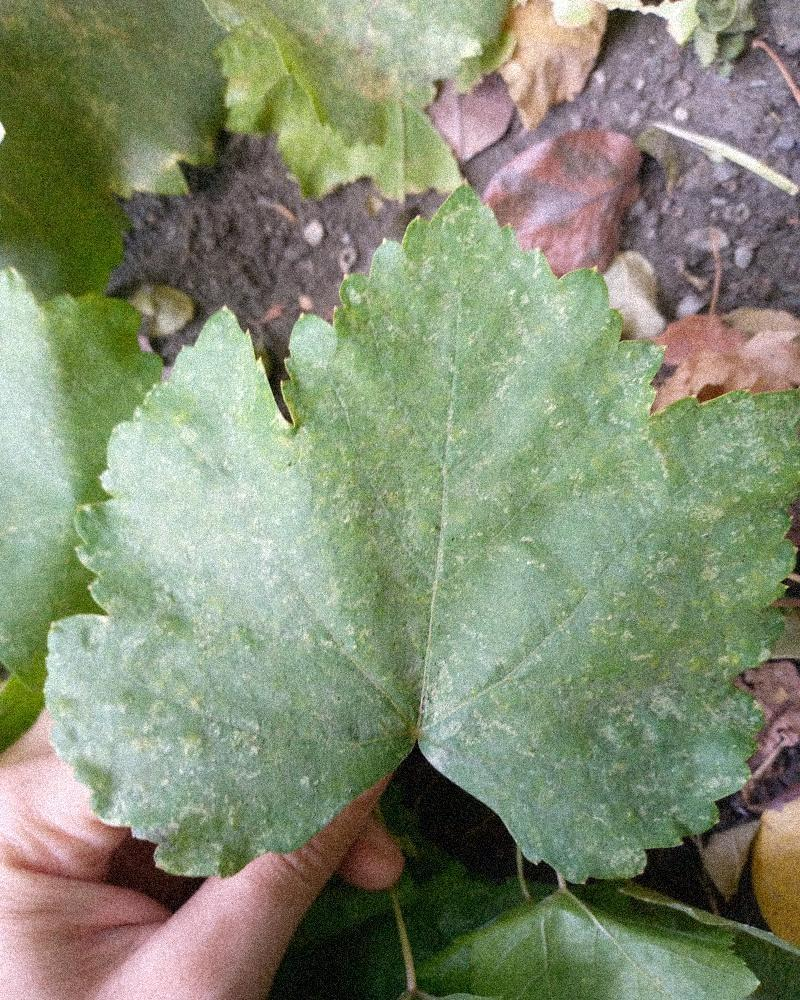Powdery-Mildew: (104, 397, 313, 596), (55, 608, 190, 834), (597, 675, 699, 777), (474, 324, 537, 387), (684, 474, 747, 537), (612, 536, 675, 599), (696, 559, 759, 622), (418, 687, 481, 750)
